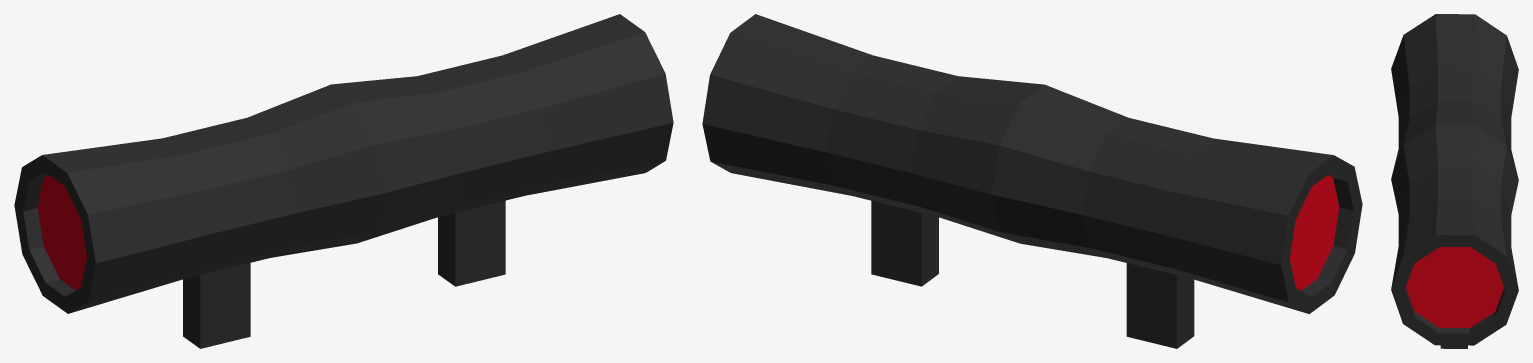
The model's file is scope.glb.
3 views of the same model, side by side, from view 1: azimuth 30°, elevation 25°; view 2: azimuth 150°, elevation 25°; view 3: azimuth 270°, elevation 25° (orthographic). The views are drawn at different scales.
Parts seen in each view (by area): view 1: Cylinder; view 2: Cylinder; view 3: Cylinder.
Boxes of the visible parts, x1,y1,x2,y2 form: Cylinder: [14, 14, 673, 348]; Cylinder: [702, 14, 1362, 348]; Cylinder: [1391, 14, 1518, 348].
Size of the model in its own units: 1.1 by 0.3844 by 0.2682.
